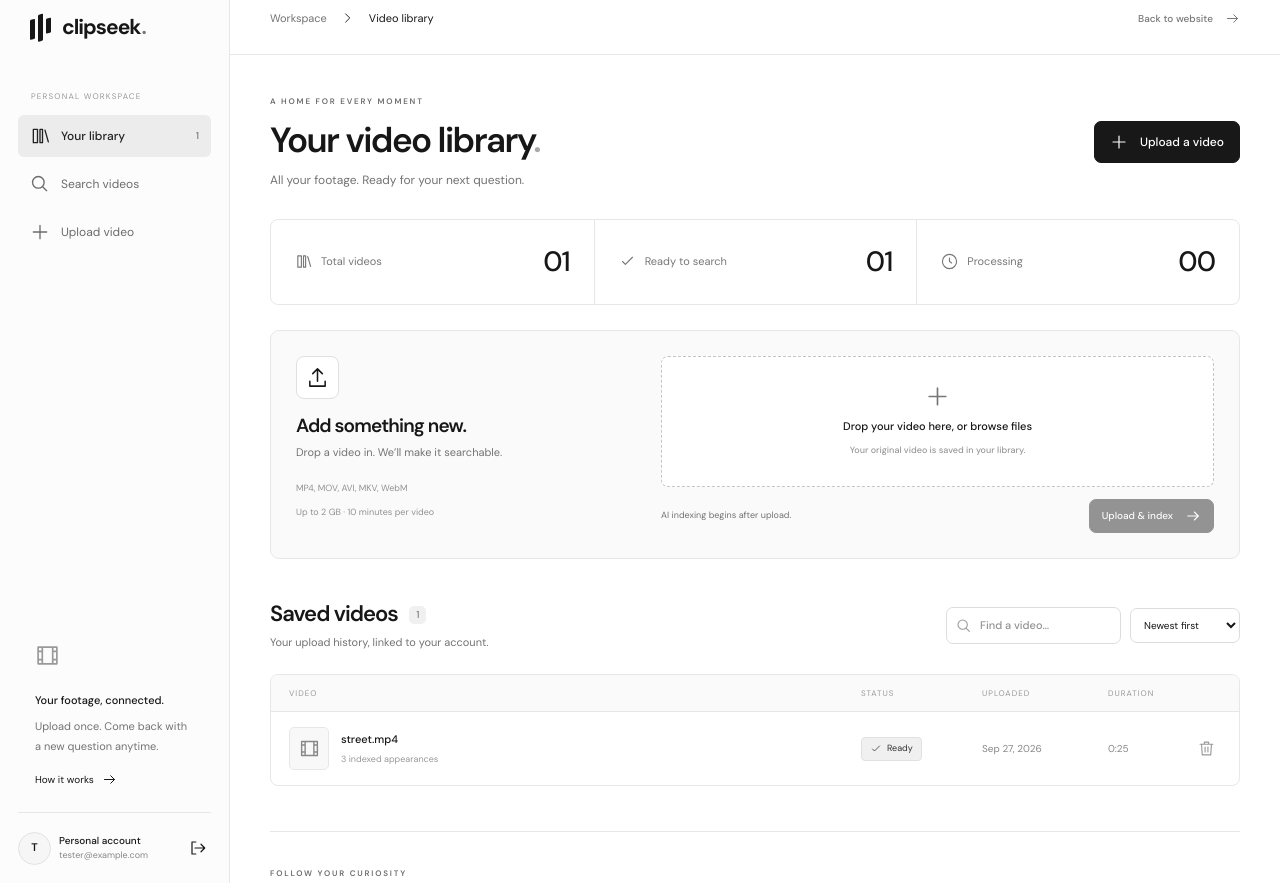
HomePage upload button › loads saved uploads and searches a selected previous video without uploading again
The image size is (1280, 883).
Click the button named "Open street.mp4".
click(309, 749)  # box left=289, top=727, right=845, bottom=770
(page scrolled)
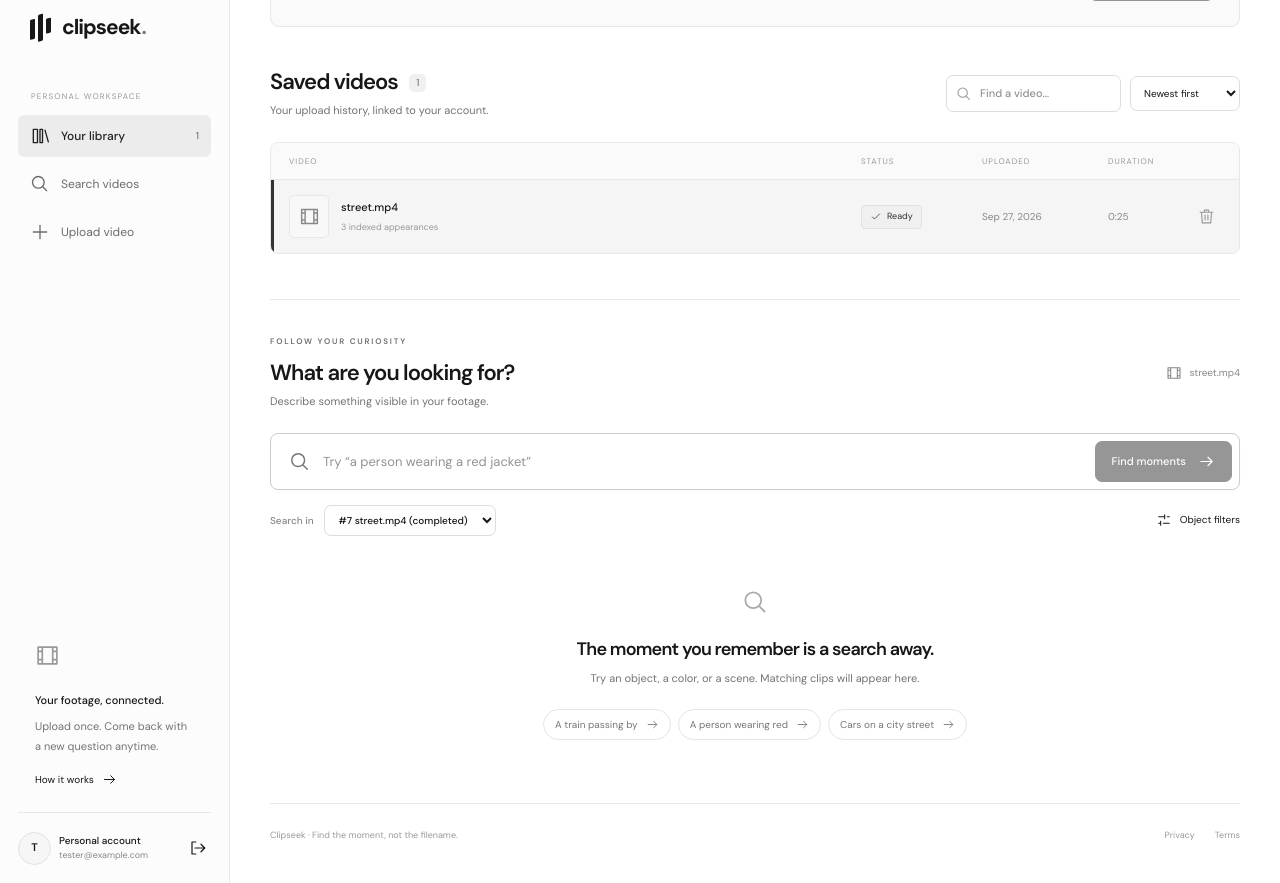
Type "train" into the field named "Query".
click(703, 462); type("train")  # box left=323, top=442, right=1083, bottom=482
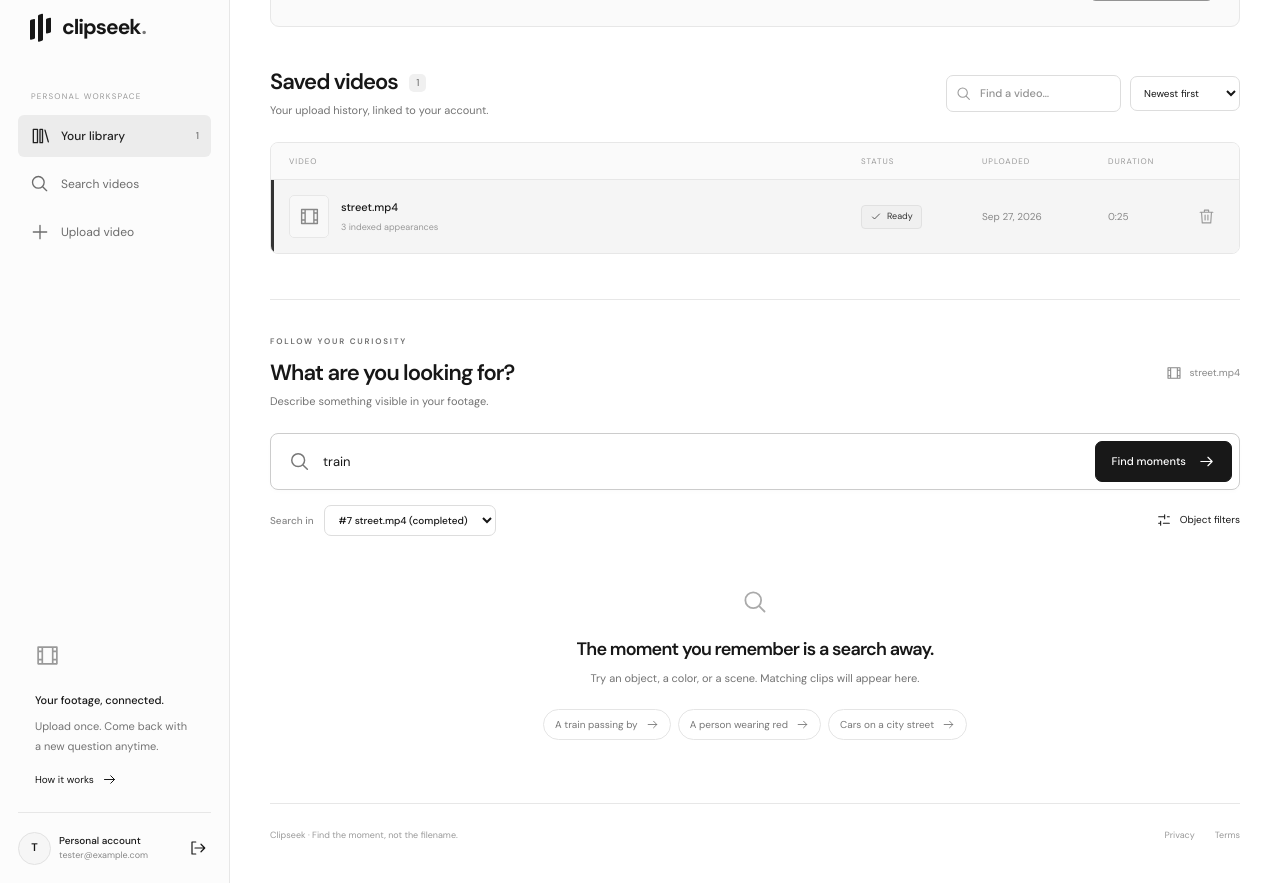
Click the button "Find moments".
click(1163, 462)  # box left=1095, top=441, right=1232, bottom=482
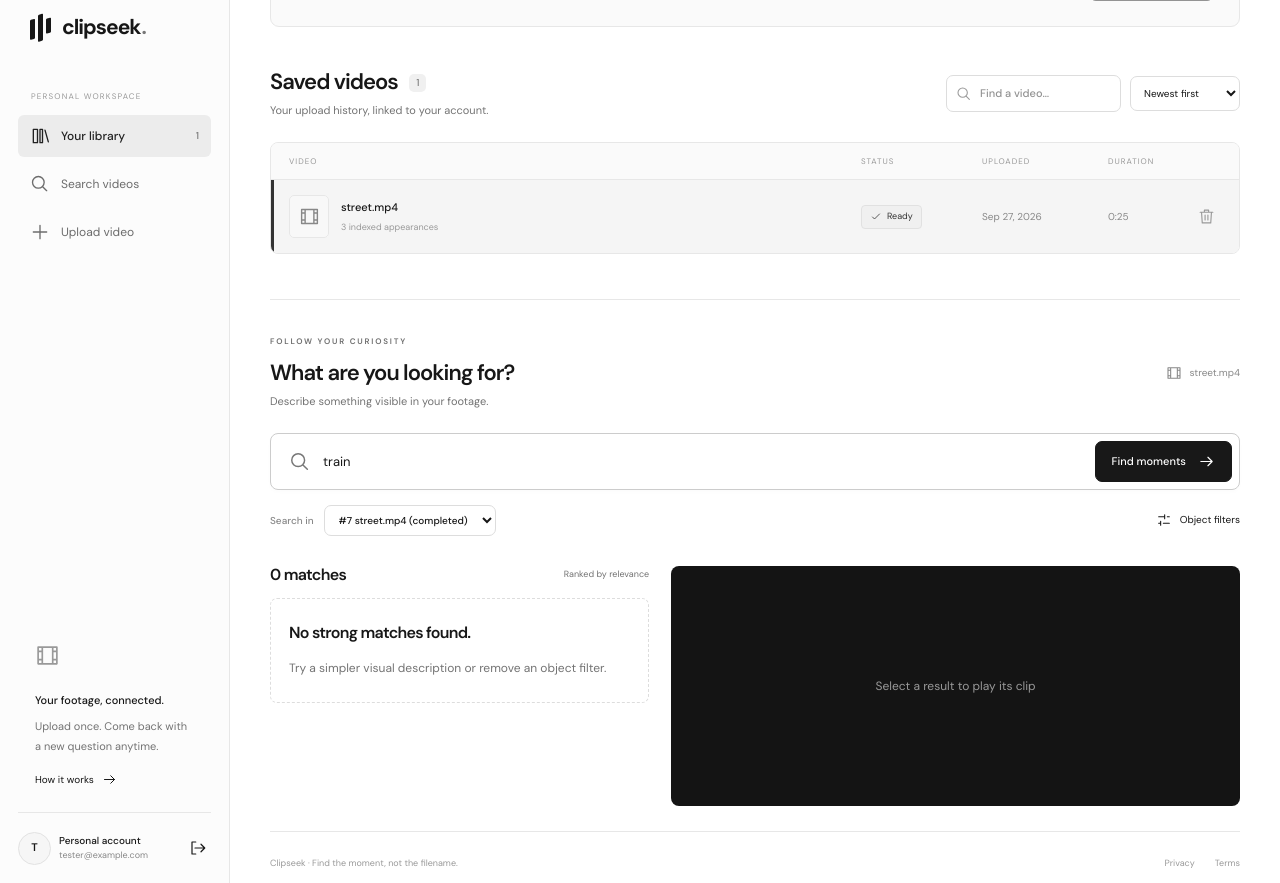
Check: the heading "No strong matches found." is shown, box left=289, top=622, right=470, bottom=644
